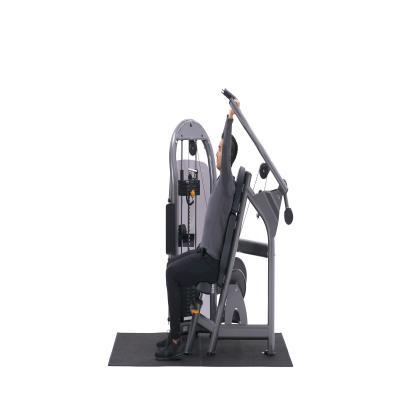shoulder press machine: (105, 85, 295, 374)
